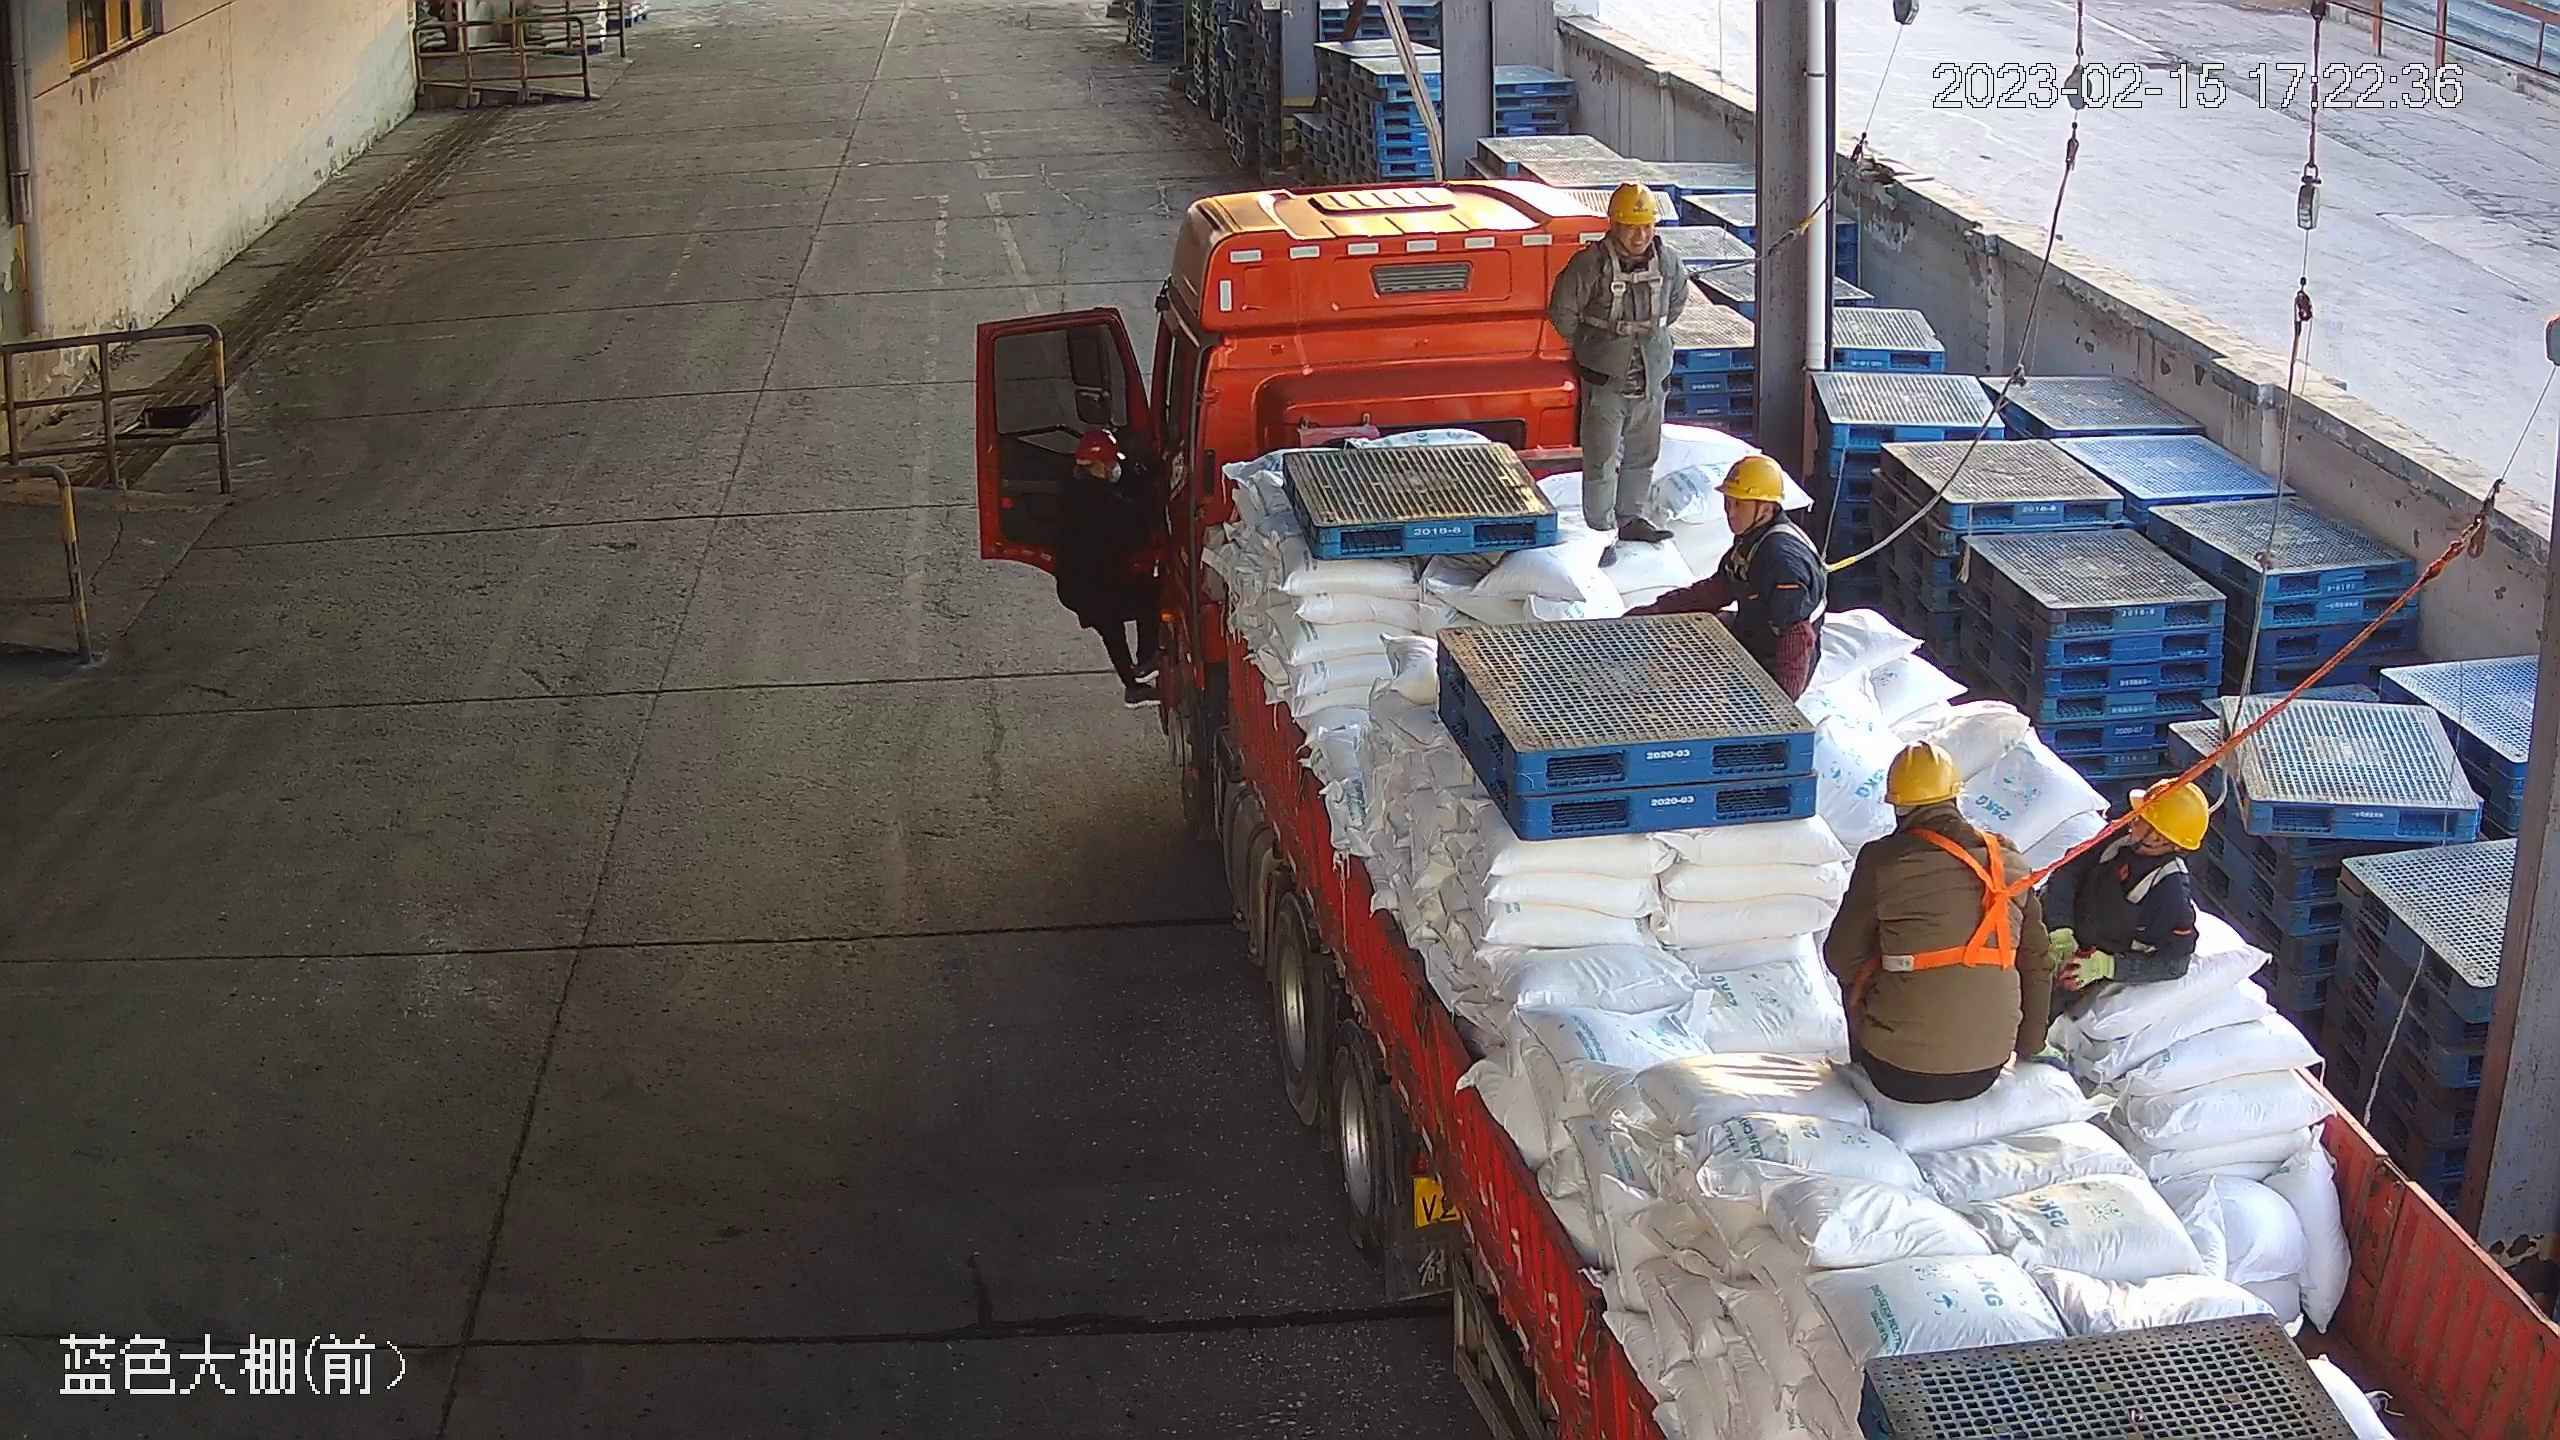belt: (1886, 830, 2048, 976), (1760, 523, 1864, 622), (1586, 253, 1681, 346), (2095, 843, 2193, 911)
head: (1860, 739, 2027, 895), (1706, 448, 1828, 595), (2086, 783, 2207, 916), (1581, 188, 1686, 292), (1059, 424, 1130, 503)
helmet: (2130, 776, 2213, 855), (1884, 737, 1963, 802), (1713, 451, 1792, 504), (1607, 179, 1665, 227), (1074, 425, 1125, 465)
people: (1821, 739, 2053, 1106), (1553, 185, 1699, 555), (2035, 779, 2220, 1008), (1051, 422, 1179, 715)
truck: (953, 167, 2560, 1440)
